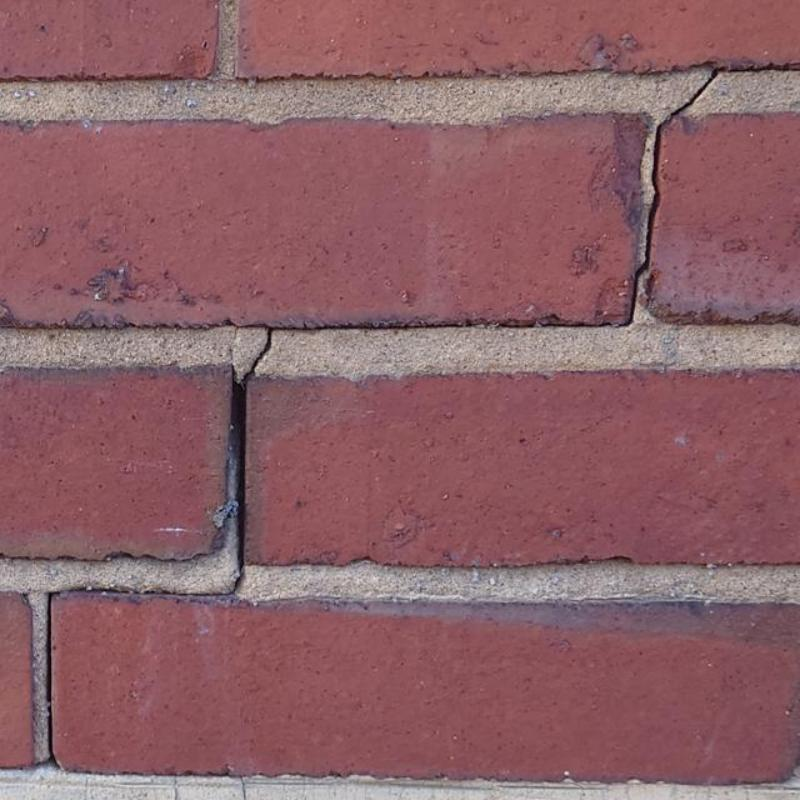pothole: (616, 67, 718, 328), (233, 328, 273, 575), (36, 592, 62, 768), (70, 574, 244, 596), (271, 322, 616, 330)
